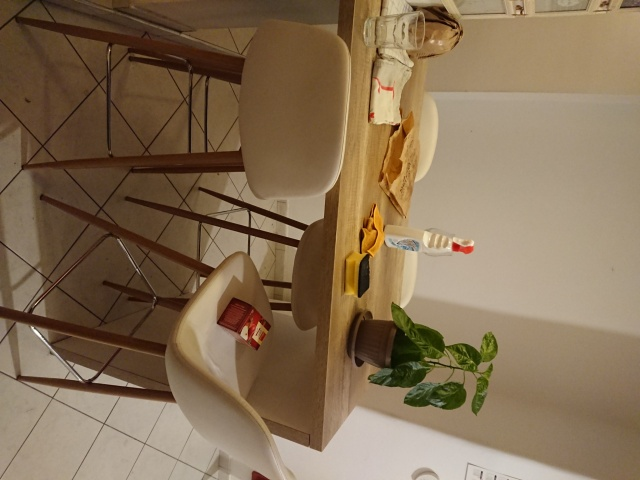Franck Apple Cinnamon Tea 60g: (214, 294, 273, 354)
